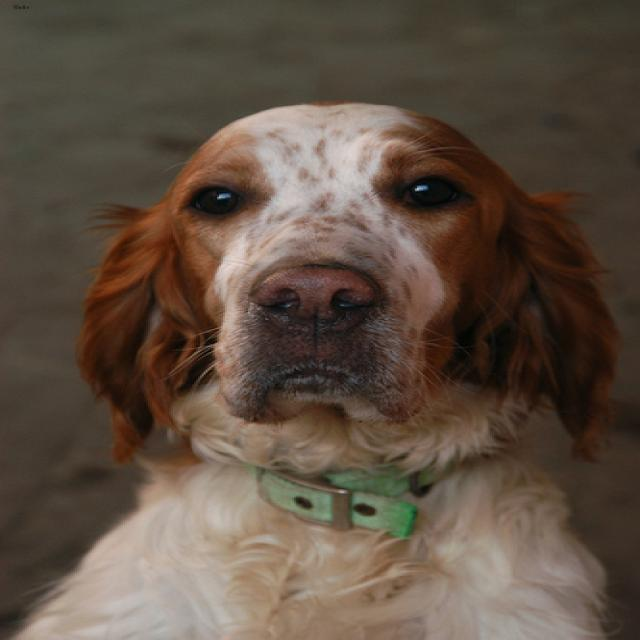dog-english_setter: (2, 91, 636, 637)
